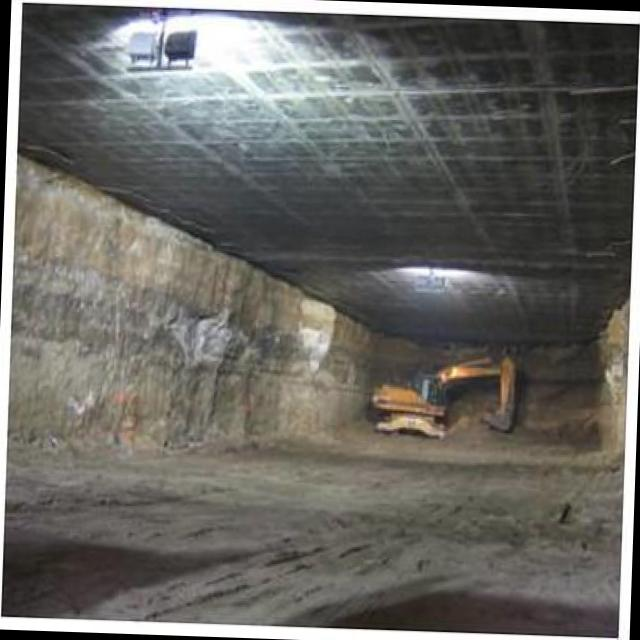Excavadora: (368, 348, 518, 440)
